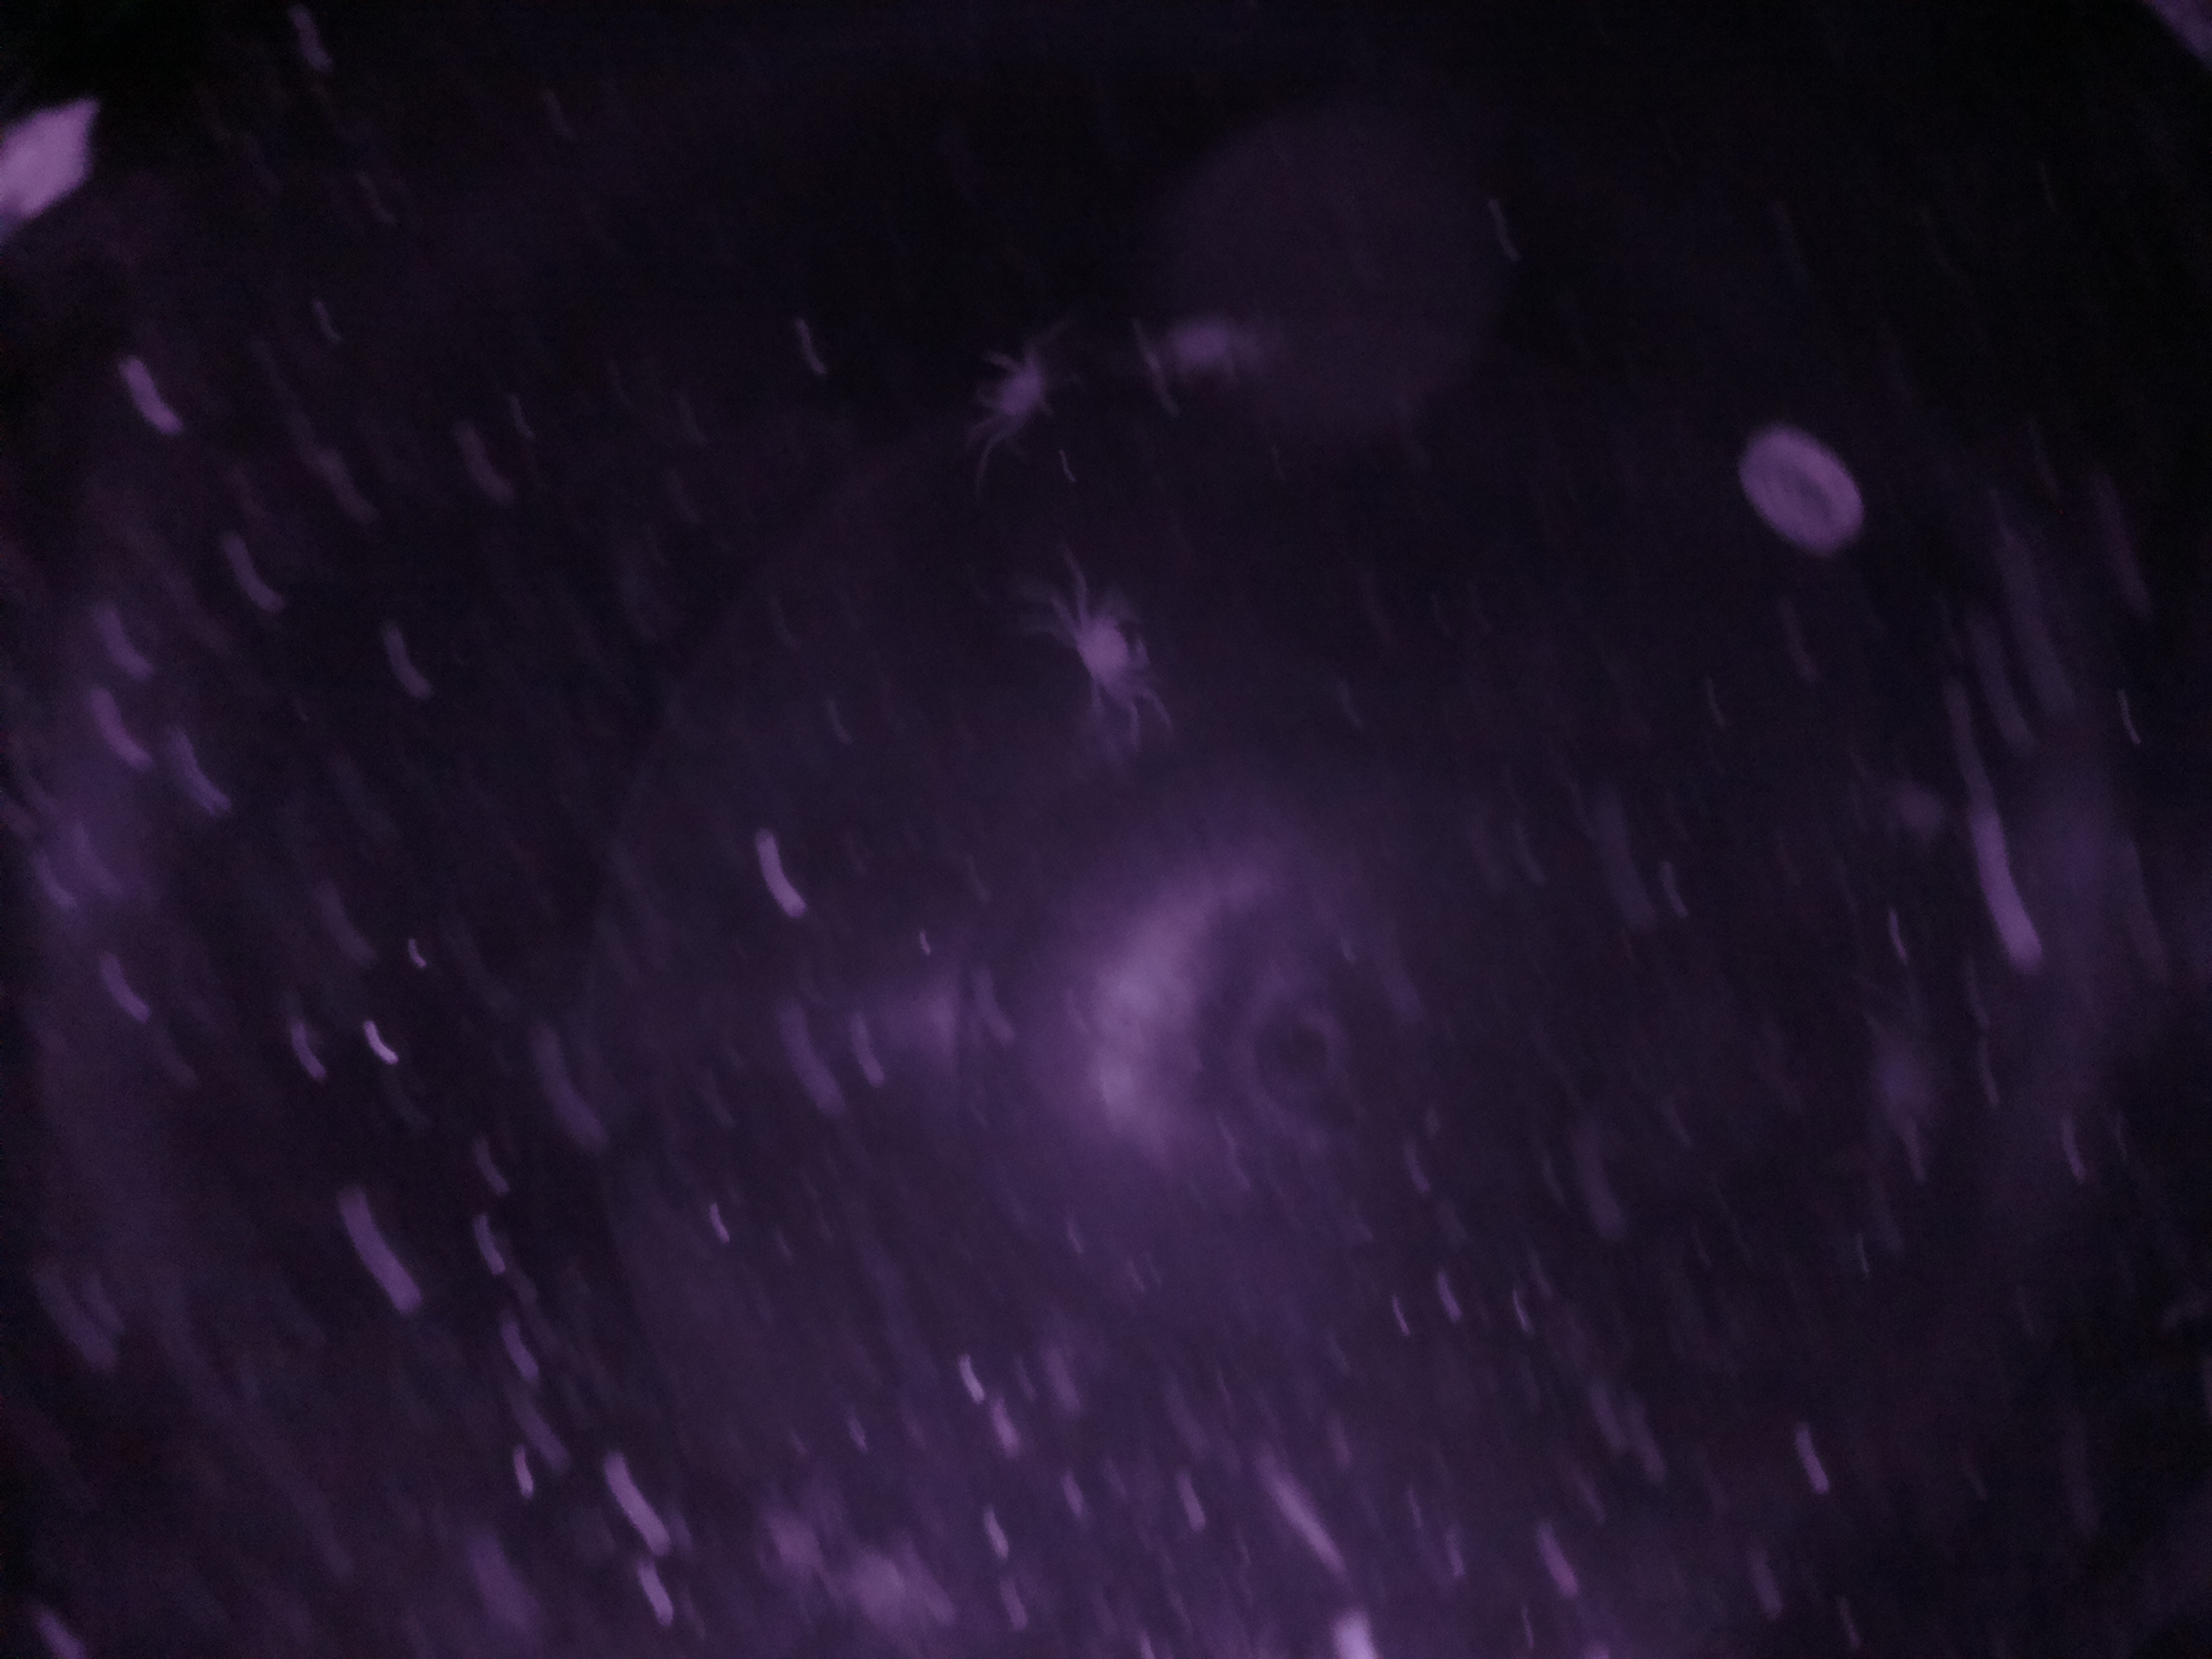Crab: (1043, 579, 1165, 701)
